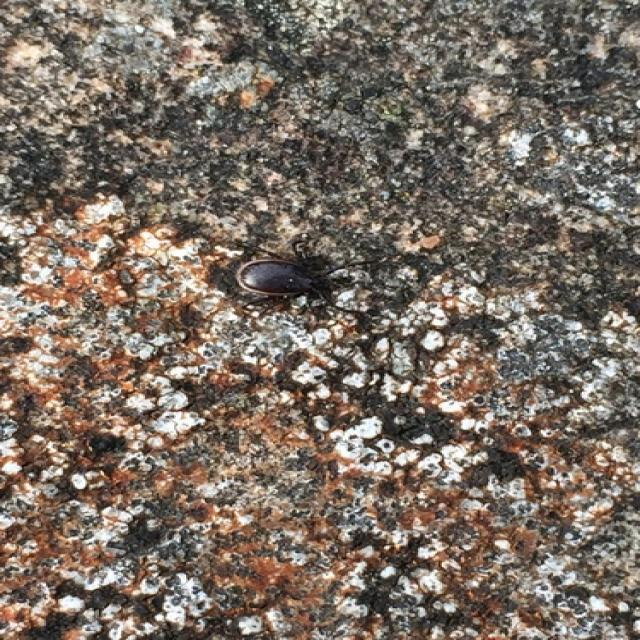Ixodes Ricinus-M: (227, 255, 382, 323)
